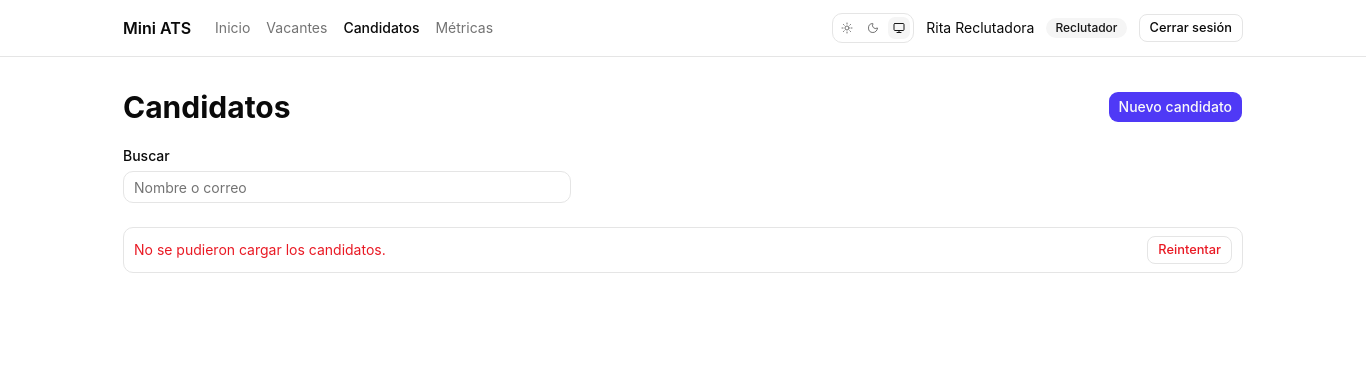
Test: CandidatesPage › shows an error with retry
The width and height of the screenshot is (1366, 381).
expect the text "No se pudieron cargar los candidatos." is shown: met, box 134,240 -> 386,260
Click the button "Reintentar": point(1190, 250) 1147,236 -> 1232,264
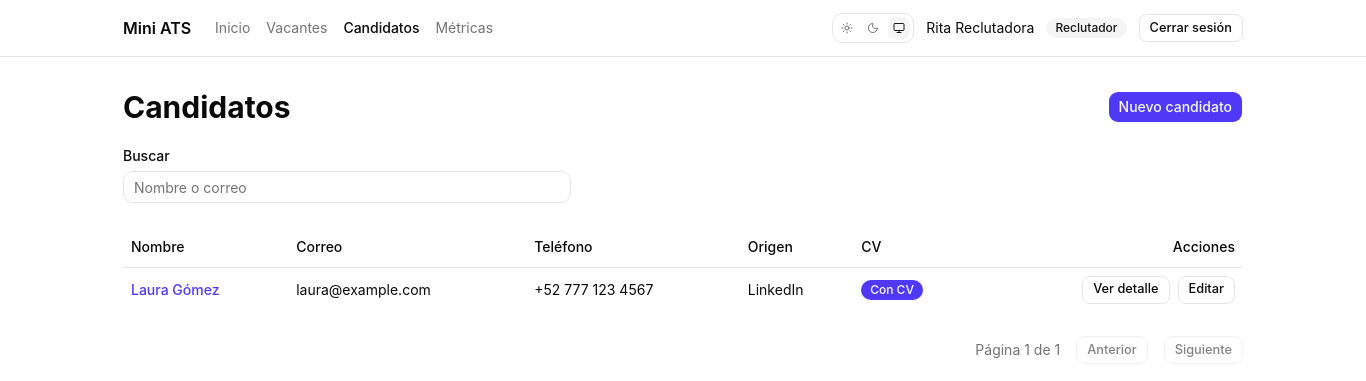
expect the link "Laura Gómez" is shown: met, box 131,280 -> 220,298
